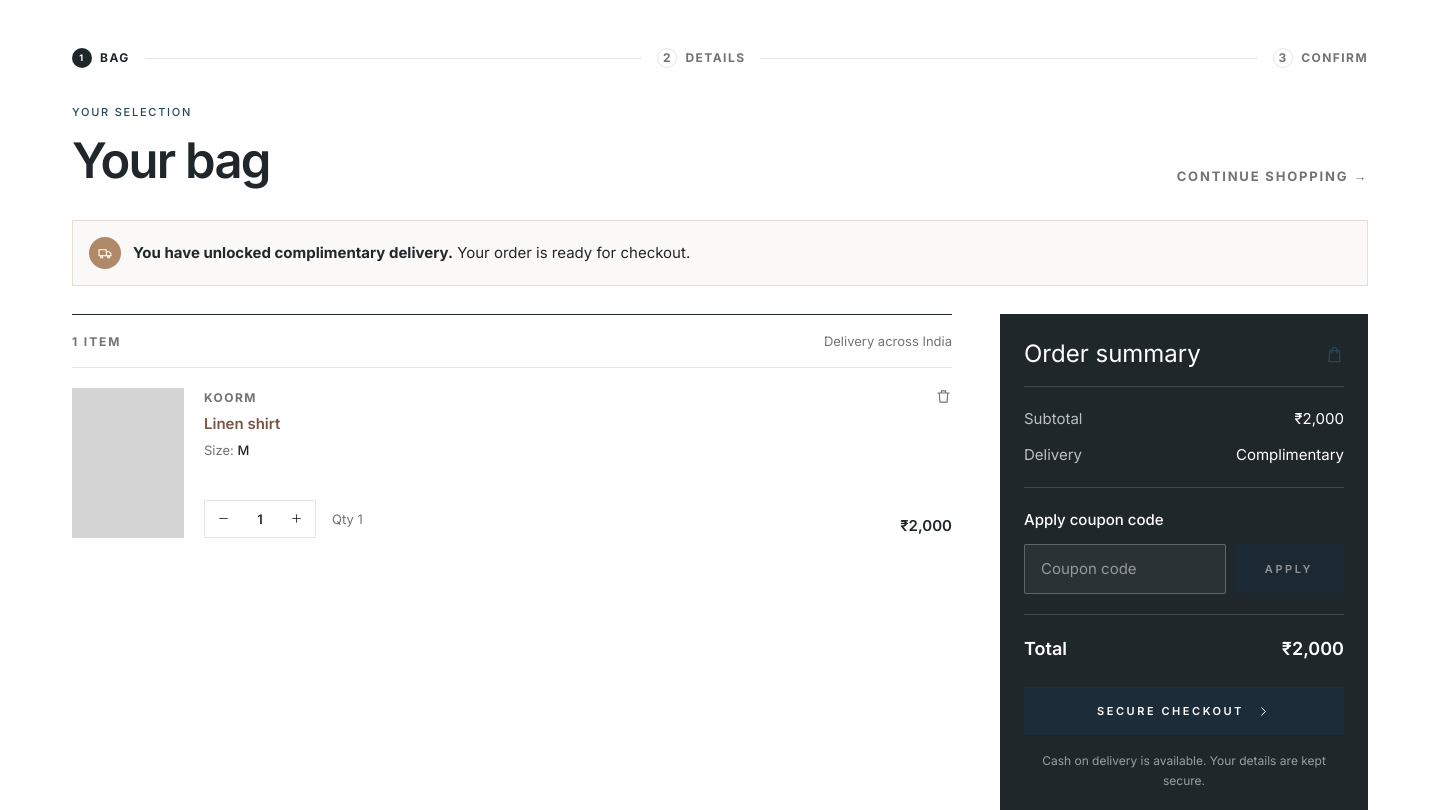
Scenario: shows the server's stock message when increasing quantity is rejected
Click the button named "Increase quantity" at (297, 519), box x1=278 y1=501 x2=315 y2=537
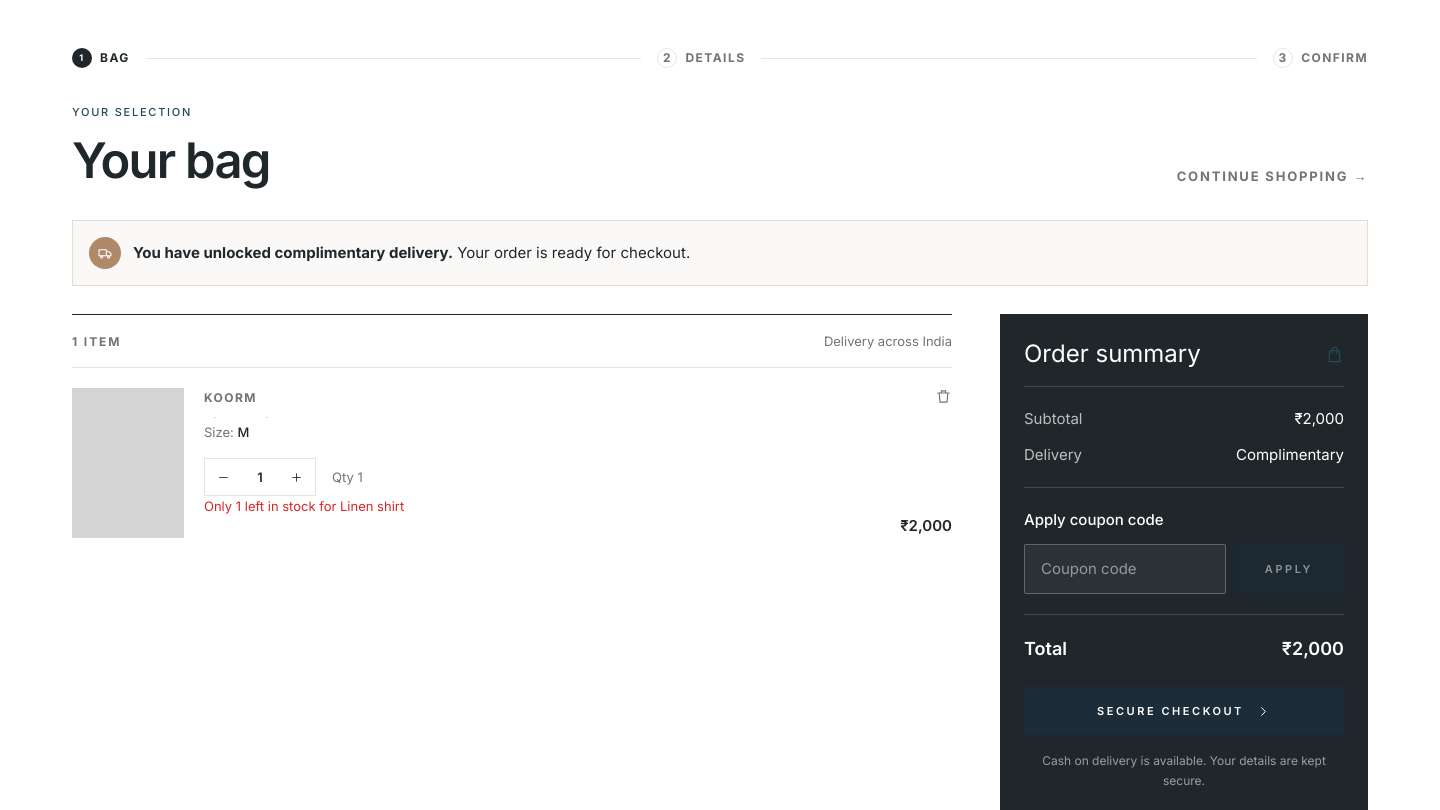
expect the text "Only 1 left in stock for Linen shirt" is shown: met, box x1=204 y1=498 x2=404 y2=514
